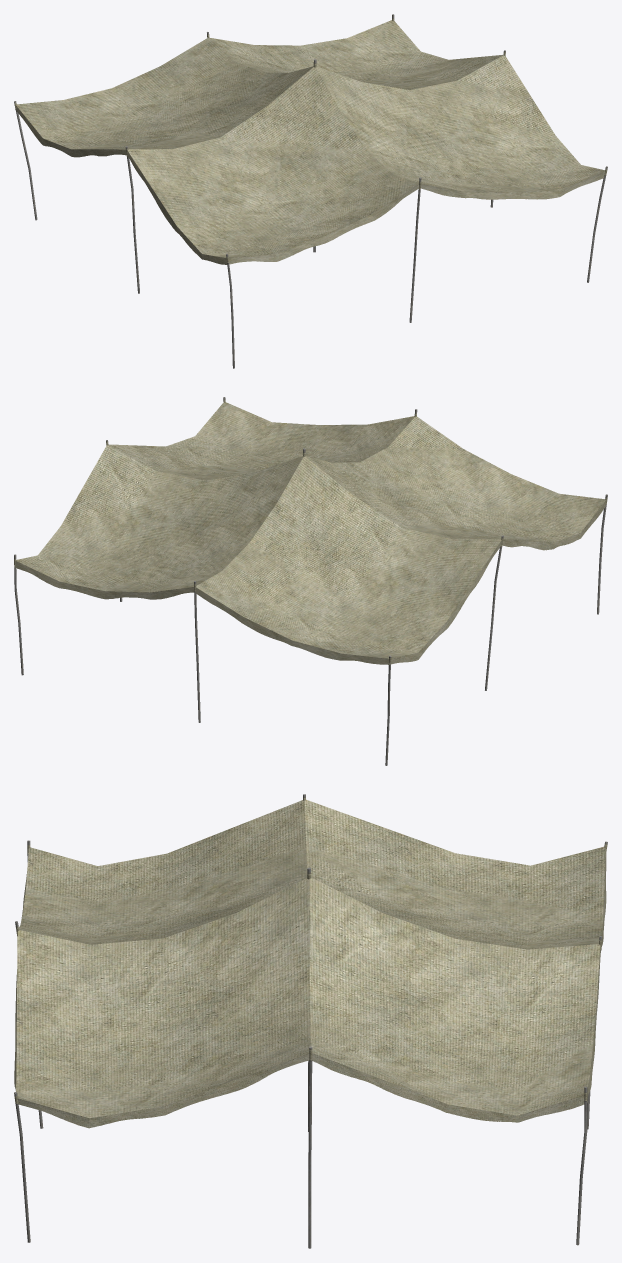
Rendered from poi_corl_tent_large_l0.fbx.
The picture shows the model from 3 angles, top to bottom: view 1: azimuth 30°, elevation 25°; view 2: azimuth 150°, elevation 25°; view 3: azimuth 270°, elevation 25°; orthographic projection. The views are drawn at different scales.
Parts seen in each view (by area): view 1: mesh_node; view 2: mesh_node; view 3: mesh_node.
Part boxes in pixels (bbox=[...]): mesh_node: bbox=[14, 14, 607, 368]; mesh_node: bbox=[14, 397, 607, 765]; mesh_node: bbox=[14, 794, 607, 1248].
Bounding box in the file's own units: 10.9 × 5.21 × 10.65.
